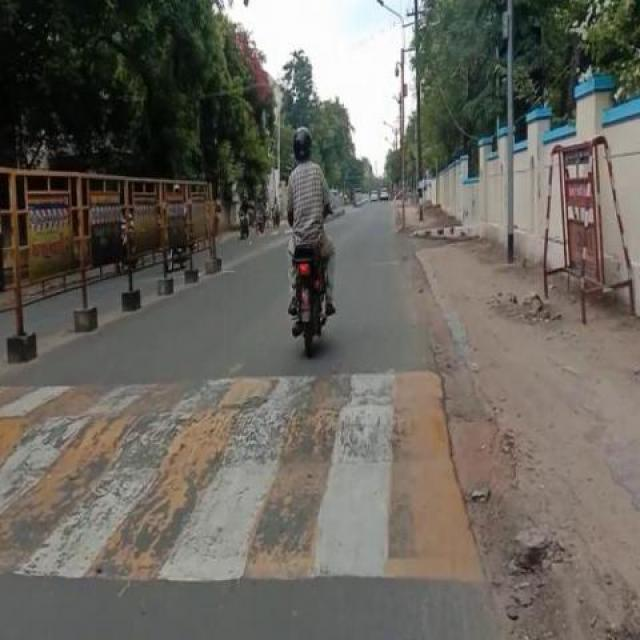Speed Bump: (1, 367, 488, 581)
